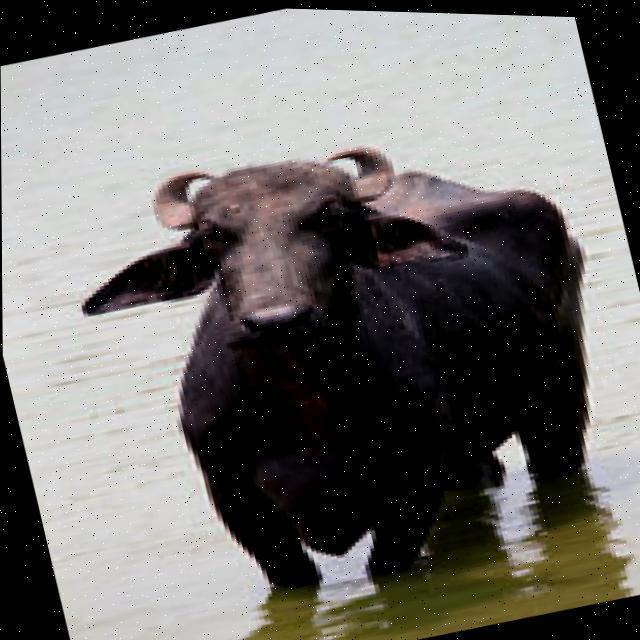Buffalo: (50, 81, 640, 637)
